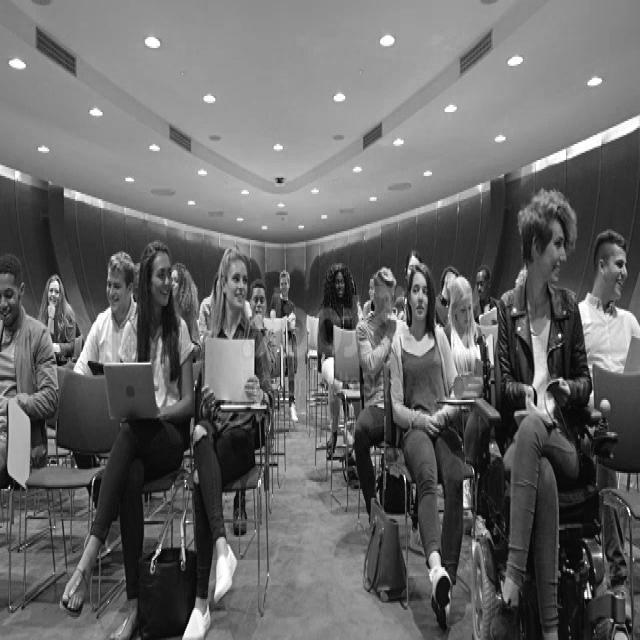Looking away: (523, 200, 566, 298), (590, 236, 630, 306), (220, 253, 248, 314), (147, 250, 173, 314), (0, 266, 24, 326), (374, 274, 394, 325), (454, 286, 472, 330), (44, 274, 62, 310), (476, 262, 489, 301)
Looking forward: (408, 266, 432, 326), (104, 260, 126, 316), (250, 284, 266, 324), (334, 266, 345, 298), (278, 271, 290, 297)
